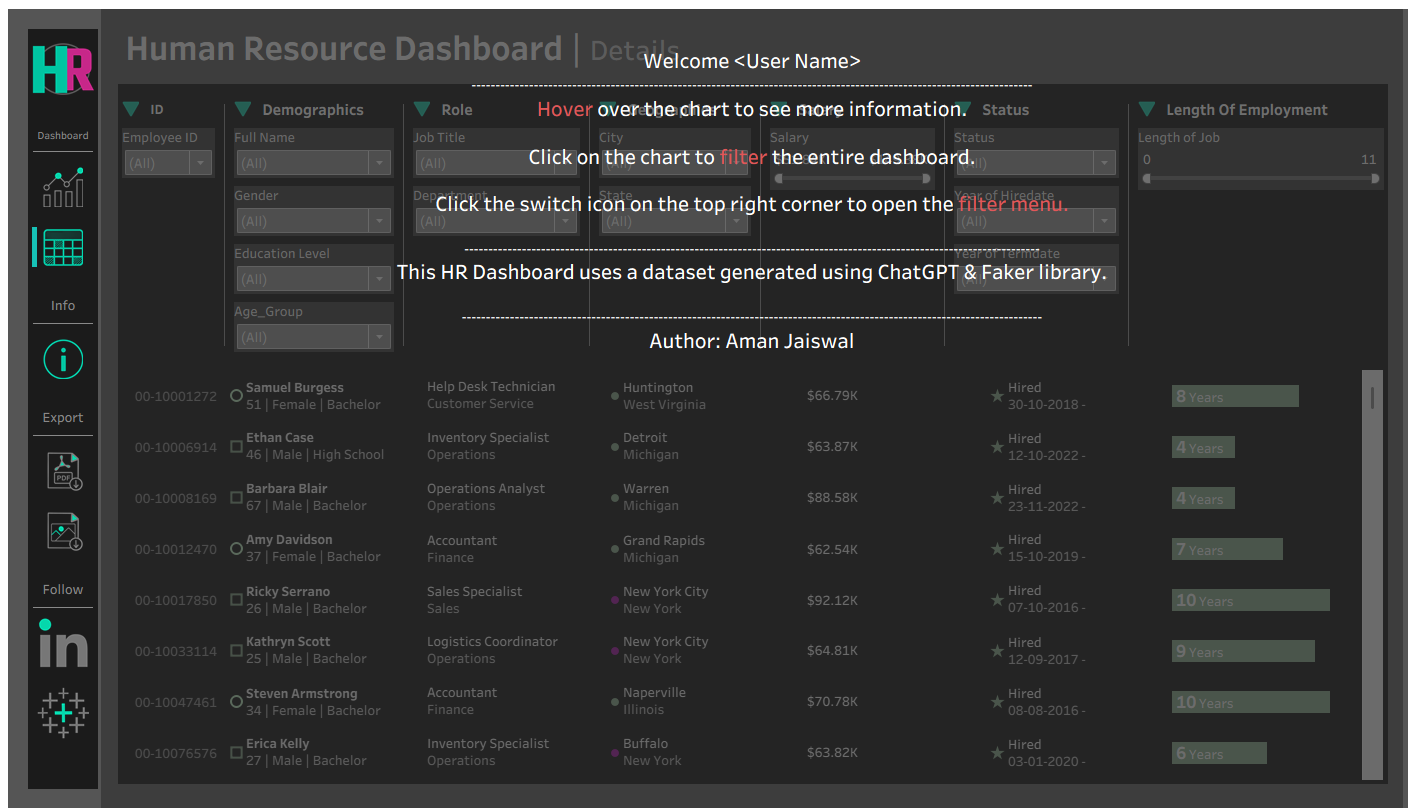

The page's visual inventory and layout, read from the dashboard file:
{"tool":"tableau","page":{"name":"HR | Details","canvas":[1400,800],"ordinal":0},"visuals":[{"type":"text","box":[93,0,1302,370]},{"type":"text","box":[110,0,677,75]},{"type":"blank","box":[787,0,593,75]},{"type":"image","param":"Image/Logo.png","box":[20,20,70,80]},{"type":"dashboard-object","box":[110,85,25,30]},{"type":"text","box":[135,85,76,30]},{"type":"blank","box":[211,85,11,262]},{"type":"dashboard-object","box":[222,85,25,30]},{"type":"text","box":[247,85,143,30]},{"type":"blank","box":[390,85,11,262]},{"type":"dashboard-object","box":[401,85,25,30]},{"type":"text","box":[426,85,148,30]},{"type":"blank","box":[576,85,11,262]},{"type":"dashboard-object","box":[587,85,25,30]},{"type":"text","box":[612,85,135,30]},{"type":"blank","box":[747,85,11,262]},{"type":"dashboard-object","box":[758,85,25,30]},{"type":"text","box":[783,85,148,30]},{"type":"blank","box":[931,85,11,262]},{"type":"dashboard-object","box":[941.9,85,25,30]},{"type":"text","box":[966.9,85,148,30]},{"type":"blank","box":[1114.9,85,11,262]},{"type":"dashboard-object","box":[1125.9,85,25,30]},{"type":"text","box":[1150.9,85,229.1,30]},{"type":"blank","box":[20,100,70,15]},{"type":"text","box":[20,115,70,22]},{"type":"filter","title":"List Of Employees","param":"[federated.13rxjmy1jcvkc51ezlxlq1k7a8bt].[none:Employee_ID:nk]","box":[110,115,101,58]},{"type":"filter","title":"List Of Employees","param":"[federated.13rxjmy1jcvkc51ezlxlq1k7a8bt].[none:Calculation_0516786419539971:nk]","box":[222,115,168,58]},{"type":"filter","title":"List Of Employees","param":"[federated.13rxjmy1jcvkc51ezlxlq1k7a8bt].[none:Job Title:nk]","box":[401,115,175,58]},{"type":"filter","title":"List Of Employees","param":"[federated.13rxjmy1jcvkc51ezlxlq1k7a8bt].[none:City:nk]","box":[587,115,160,58]},{"type":"filter","title":"List Of Employees","param":"[federated.13rxjmy1jcvkc51ezlxlq1k7a8bt].[sum:Salary:qk]","box":[758,115,173,70]},{"type":"filter","title":"List Of Employees","param":"[federated.13rxjmy1jcvkc51ezlxlq1k7a8bt].[none:Calculation_0311727184019462:nk]","box":[941.9,115,173,58]},{"type":"filter","title":"List Of Employees","param":"[federated.13rxjmy1jcvkc51ezlxlq1k7a8bt].[sum:Calculation_0516786424557572:qk]","box":[1125.9,115,254.1,70]},{"type":"blank","box":[20,137,70,11]},{"type":"dashboard-object","box":[20,148,70,60]},{"type":"filter","title":"List Of Employees","param":"[federated.13rxjmy1jcvkc51ezlxlq1k7a8bt].[none:Gender:nk]","box":[222,173,168,58]},{"type":"filter","title":"List Of Employees","param":"[federated.13rxjmy1jcvkc51ezlxlq1k7a8bt].[none:Department:nk]","box":[401,173,175,58]},{"type":"filter","title":"List Of Employees","param":"[federated.13rxjmy1jcvkc51ezlxlq1k7a8bt].[none:State:nk]","box":[587,173,160,58]},{"type":"filter","title":"List Of Employees","param":"[federated.13rxjmy1jcvkc51ezlxlq1k7a8bt].[yr:Hiredate:ok]","box":[941.9,173,173,58]},{"type":"dashboard-object","box":[20,208,70,60]},{"type":"blank","box":[24,218,5,40]},{"type":"filter","title":"List Of Employees","param":"[federated.13rxjmy1jcvkc51ezlxlq1k7a8bt].[none:Education Level:nk]","box":[222,231,168,58]},{"type":"filter","title":"List Of Employees","param":"[federated.13rxjmy1jcvkc51ezlxlq1k7a8bt].[yr:Termdate:ok]","box":[941.9,231,173,58]},{"type":"blank","box":[20,268,70,15]},{"type":"text","box":[20,283,70,26]},{"type":"filter","title":"List Of Employees","param":"[federated.13rxjmy1jcvkc51ezlxlq1k7a8bt].[none:Calculation_0311727143297029:nk]","box":[222,289,168,58]},{"type":"blank","box":[20,309,70,11]},{"type":"dashboard-object","box":[20,320,70,60]},{"type":"worksheet","title":"List Of Employees","mark":"Shape","rows":["Employee_ID"],"cols":["Calculation_0516786419040258","Calculation_0516786419040258","Calculation_0516786419040258","Calculation_0516786419040258","Calculation_0516786419040258","Calculation_0516786424557572"],"box":[110,357,1270,418]},{"type":"blank","box":[20,380,70,15]},{"type":"text","box":[20,395,70,26]},{"type":"blank","box":[20,421,70,11]},{"type":"dashboard-object","box":[20,432,70,60]},{"type":"dashboard-object","box":[20,492,70,60]},{"type":"blank","box":[20,552,70,15]},{"type":"text","box":[20,567,70,26]},{"type":"blank","box":[20,593,70,11]},{"type":"image","param":"Image/contact-linkedin.png","box":[20,604,70,60]},{"type":"blank","box":[20,664,70,10]},{"type":"image","param":"Image/contact-public.png","box":[20,674,70,60]}]}

Visuals, with their boxes on the page's 1400x800 design canvas (x1, y1, x2, y2). These are canvas units, not pixel positions in the 1416x808 screenshot, which may show the page scaled, cropped or inside an application window:
text: <box>93,0,1395,370</box>
text: <box>110,0,787,75</box>
blank: <box>787,0,1380,75</box>
image: <box>20,20,90,100</box>
dashboard-object: <box>110,85,135,115</box>
text: <box>135,85,211,115</box>
blank: <box>211,85,222,347</box>
dashboard-object: <box>222,85,247,115</box>
text: <box>247,85,390,115</box>
blank: <box>390,85,401,347</box>
dashboard-object: <box>401,85,426,115</box>
text: <box>426,85,574,115</box>
blank: <box>576,85,587,347</box>
dashboard-object: <box>587,85,612,115</box>
text: <box>612,85,747,115</box>
blank: <box>747,85,758,347</box>
dashboard-object: <box>758,85,783,115</box>
text: <box>783,85,931,115</box>
blank: <box>931,85,942,347</box>
dashboard-object: <box>942,85,967,115</box>
text: <box>967,85,1115,115</box>
blank: <box>1115,85,1126,347</box>
dashboard-object: <box>1126,85,1151,115</box>
text: <box>1151,85,1380,115</box>
blank: <box>20,100,90,115</box>
text: <box>20,115,90,137</box>
"List Of Employees" filter: <box>110,115,211,173</box>
"List Of Employees" filter: <box>222,115,390,173</box>
"List Of Employees" filter: <box>401,115,576,173</box>
"List Of Employees" filter: <box>587,115,747,173</box>
"List Of Employees" filter: <box>758,115,931,185</box>
"List Of Employees" filter: <box>942,115,1115,173</box>
"List Of Employees" filter: <box>1126,115,1380,185</box>
blank: <box>20,137,90,148</box>
dashboard-object: <box>20,148,90,208</box>
"List Of Employees" filter: <box>222,173,390,231</box>
"List Of Employees" filter: <box>401,173,576,231</box>
"List Of Employees" filter: <box>587,173,747,231</box>
"List Of Employees" filter: <box>942,173,1115,231</box>
dashboard-object: <box>20,208,90,268</box>
blank: <box>24,218,29,258</box>
"List Of Employees" filter: <box>222,231,390,289</box>
"List Of Employees" filter: <box>942,231,1115,289</box>
blank: <box>20,268,90,283</box>
text: <box>20,283,90,309</box>
"List Of Employees" filter: <box>222,289,390,347</box>
blank: <box>20,309,90,320</box>
dashboard-object: <box>20,320,90,380</box>
"List Of Employees" worksheet (Shape marks): <box>110,357,1380,775</box>
blank: <box>20,380,90,395</box>
text: <box>20,395,90,421</box>
blank: <box>20,421,90,432</box>
dashboard-object: <box>20,432,90,492</box>
dashboard-object: <box>20,492,90,552</box>
blank: <box>20,552,90,567</box>
text: <box>20,567,90,593</box>
blank: <box>20,593,90,604</box>
image: <box>20,604,90,664</box>
blank: <box>20,664,90,674</box>
image: <box>20,674,90,734</box>
